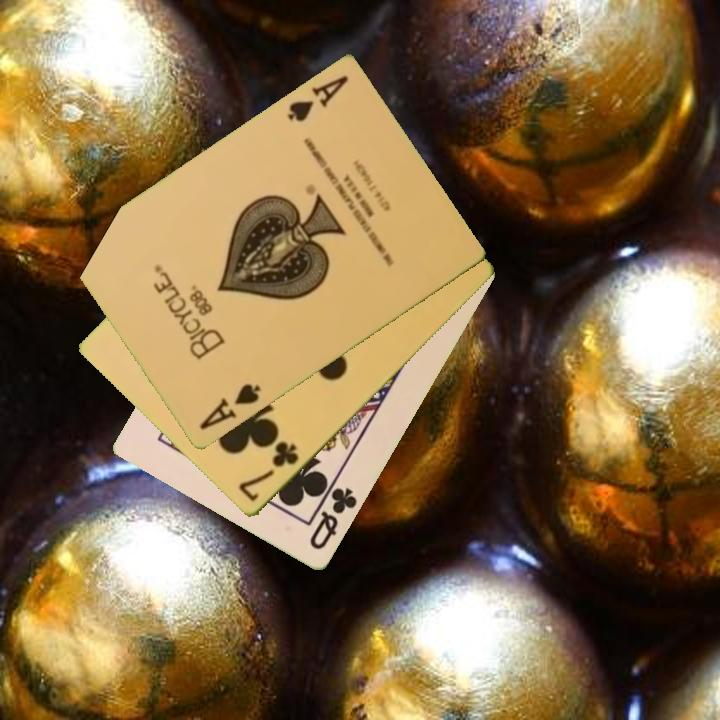7c: (235, 437, 302, 505)
As: (195, 380, 264, 433), (284, 72, 351, 126)
Qc: (306, 484, 360, 554)
